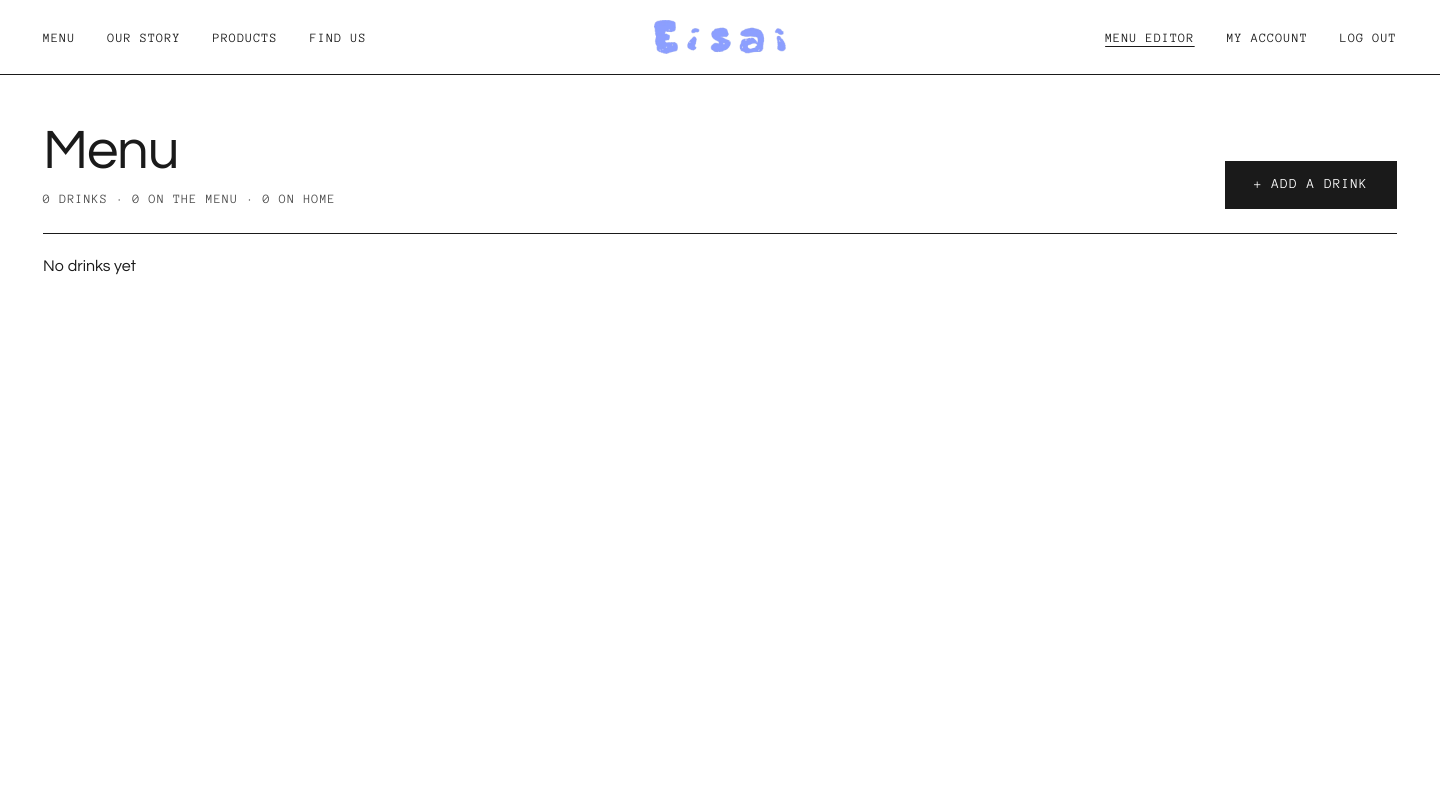
it: Log out in the navbar on the menu editor goes home
Expected: the text "No drinks yet" is shown, [43,232,1397,278]
Click the button "Log out": (1368, 38) [1340,28,1397,48]
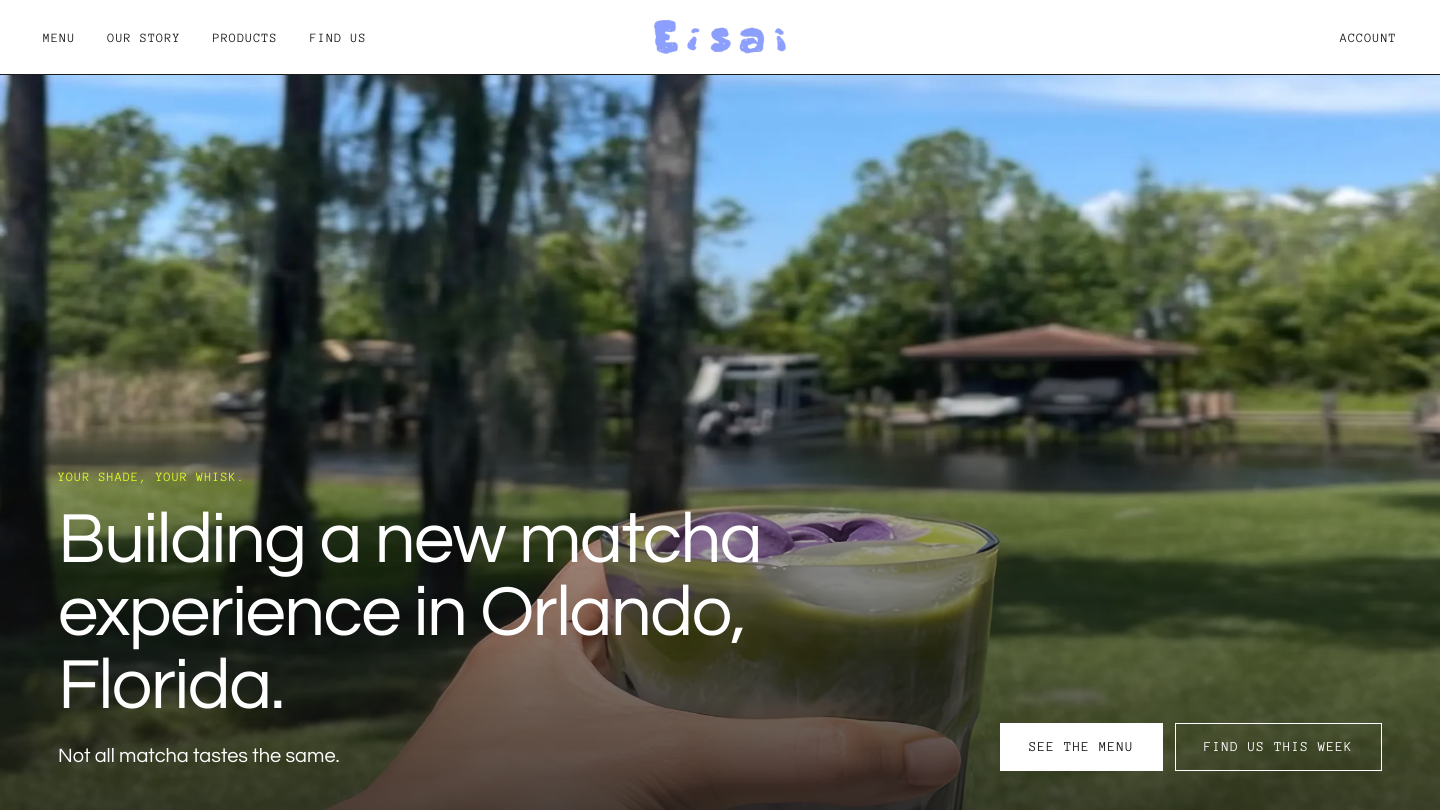
Expected: the heading "Building a new matcha experience in Orlando, Florida." is shown, [58,504,818,723]
